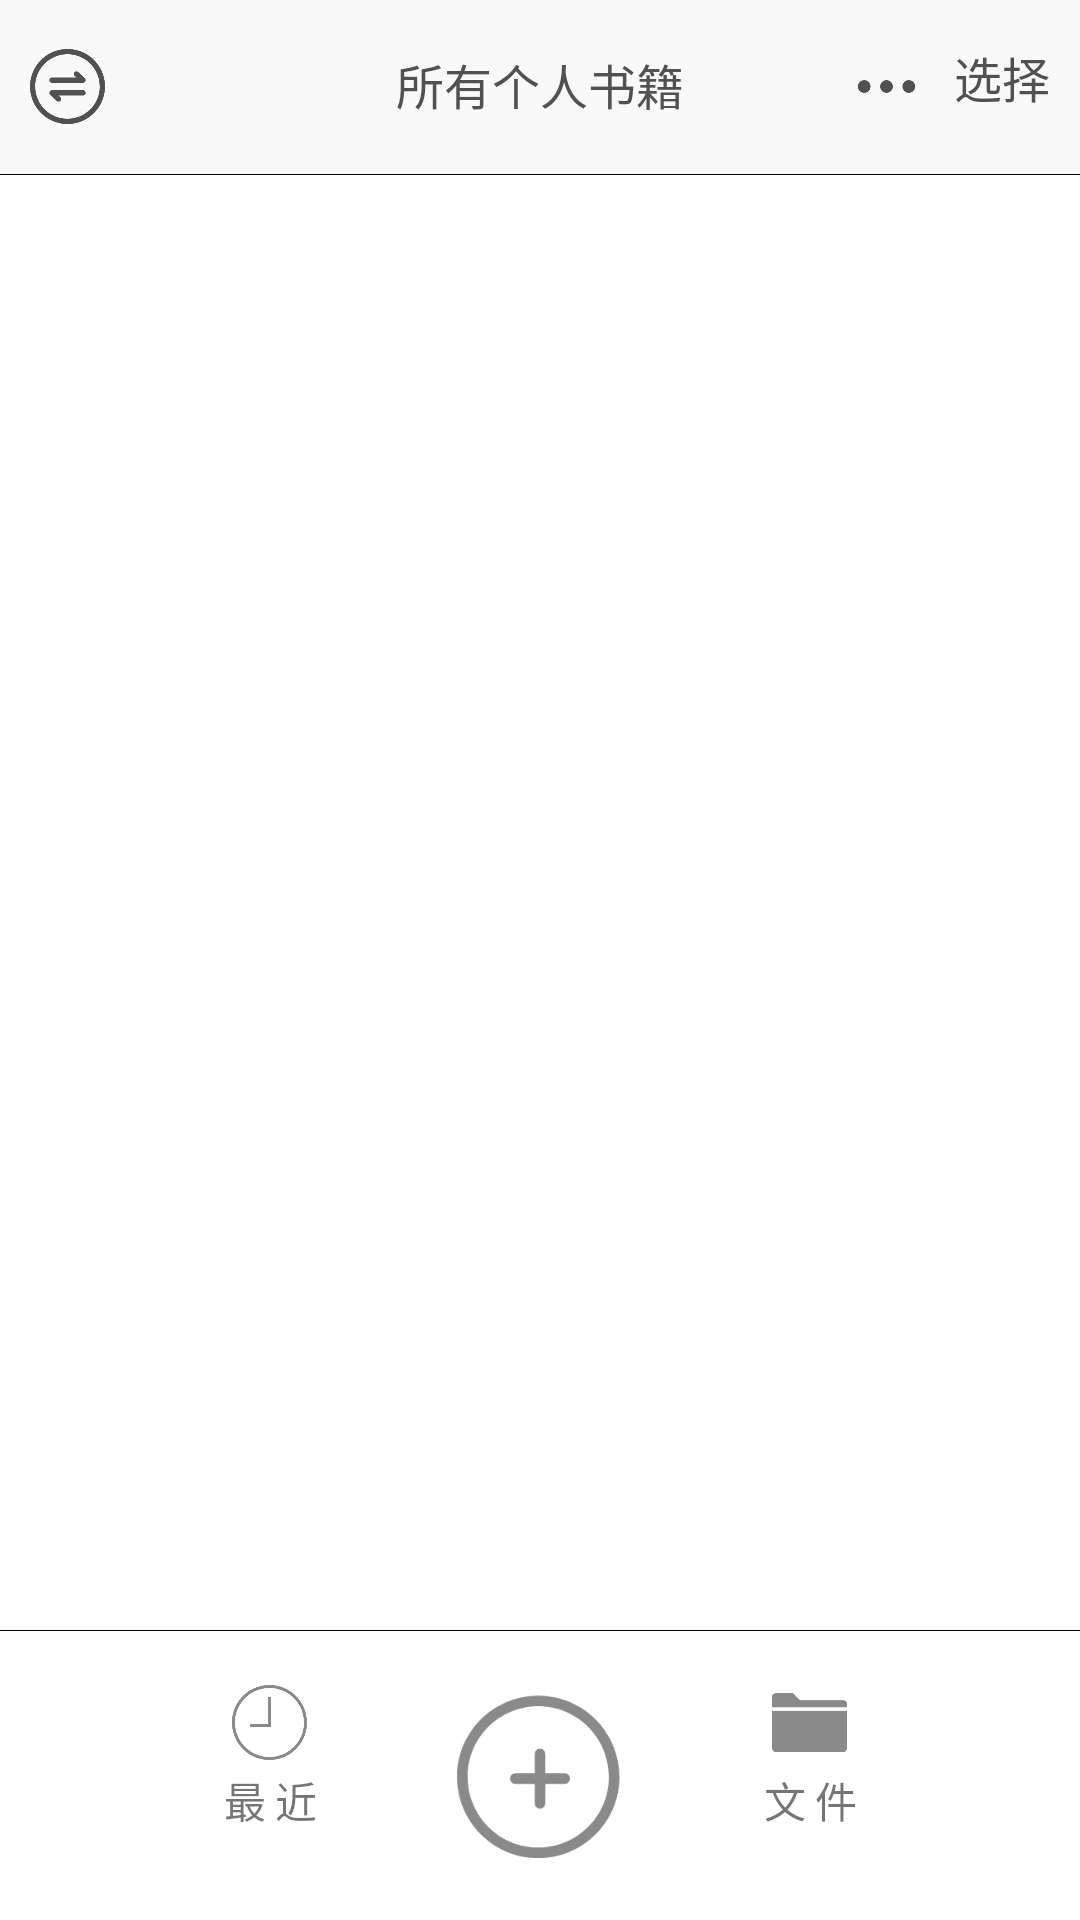

Named icons in this screenshot (1080*1920) and their centers, point (x, y):
myicon dot deepgray: point (886, 86)
myicon folder: point (809, 1722)
myicon switch deepgray: point (67, 86)
